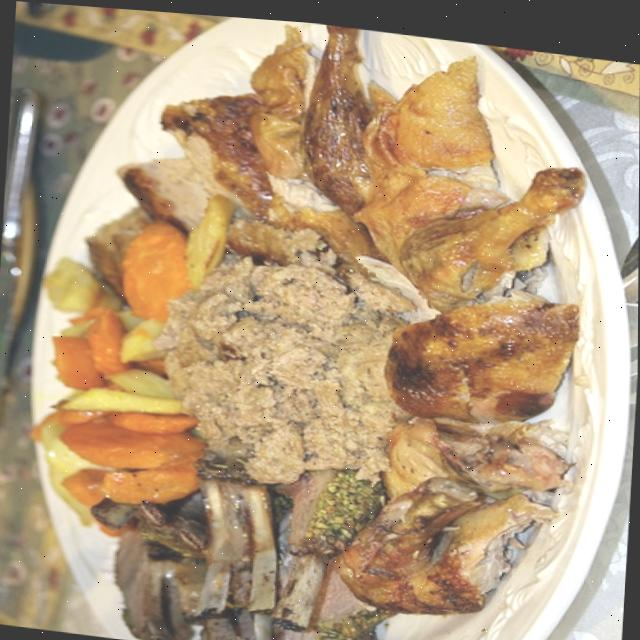烧串烤肉: (10, 9, 640, 640)
